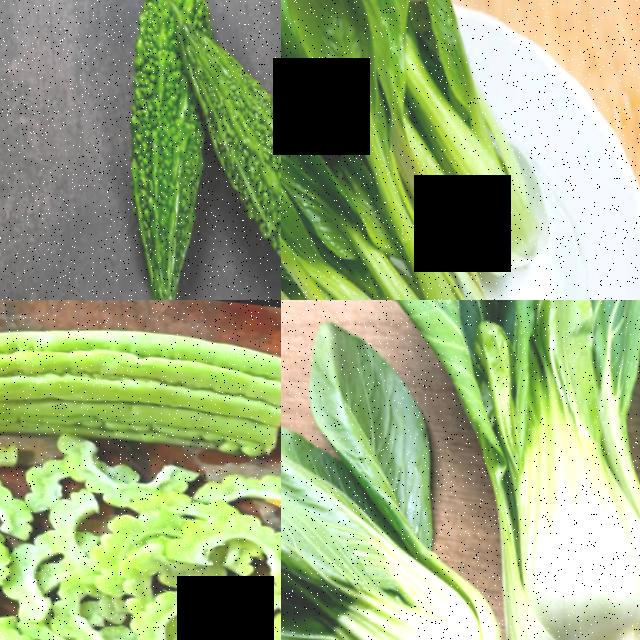bitter gourd: (0, 300, 281, 468), (95, 69, 208, 300), (206, 48, 281, 291)
bok choy: (281, 0, 528, 288), (448, 300, 640, 640), (281, 355, 491, 640)
